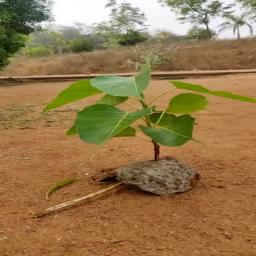LEAVS: (42, 60, 250, 160)
